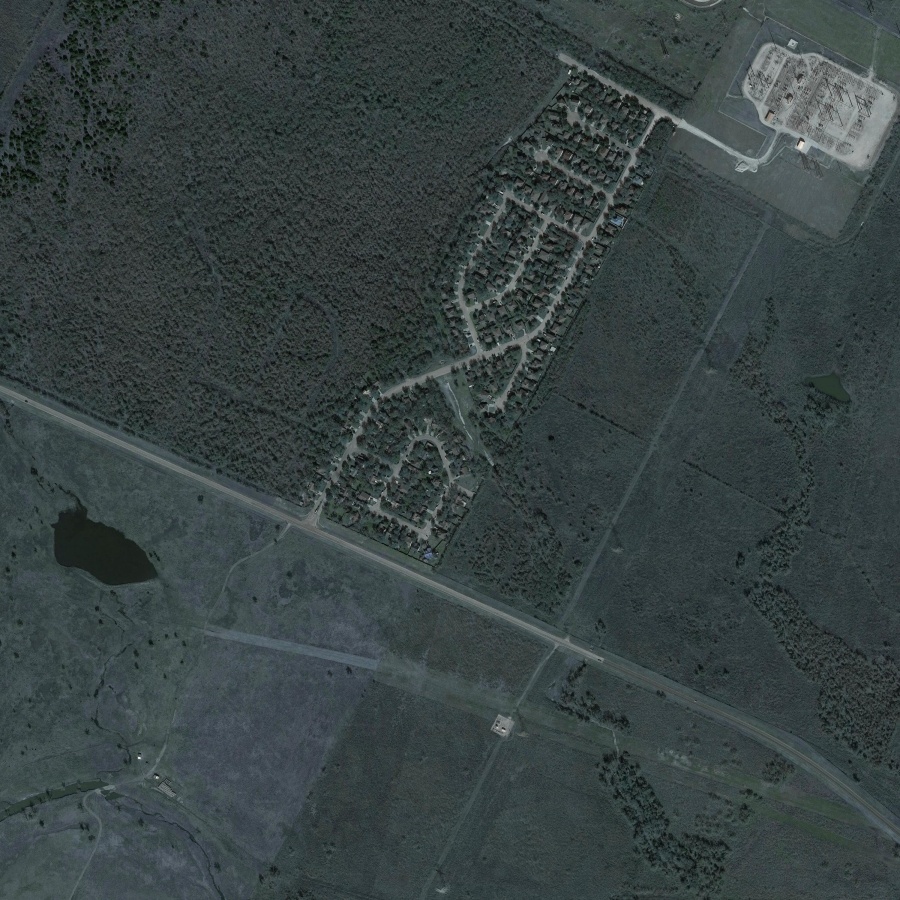PowerPlant: (740, 27, 886, 164)
